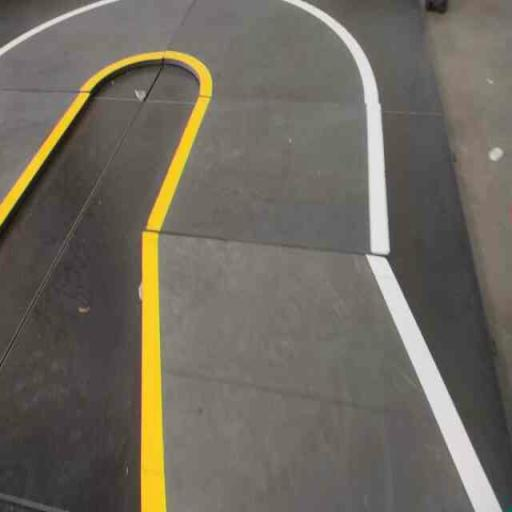crossleft: (124, 229, 504, 511)
